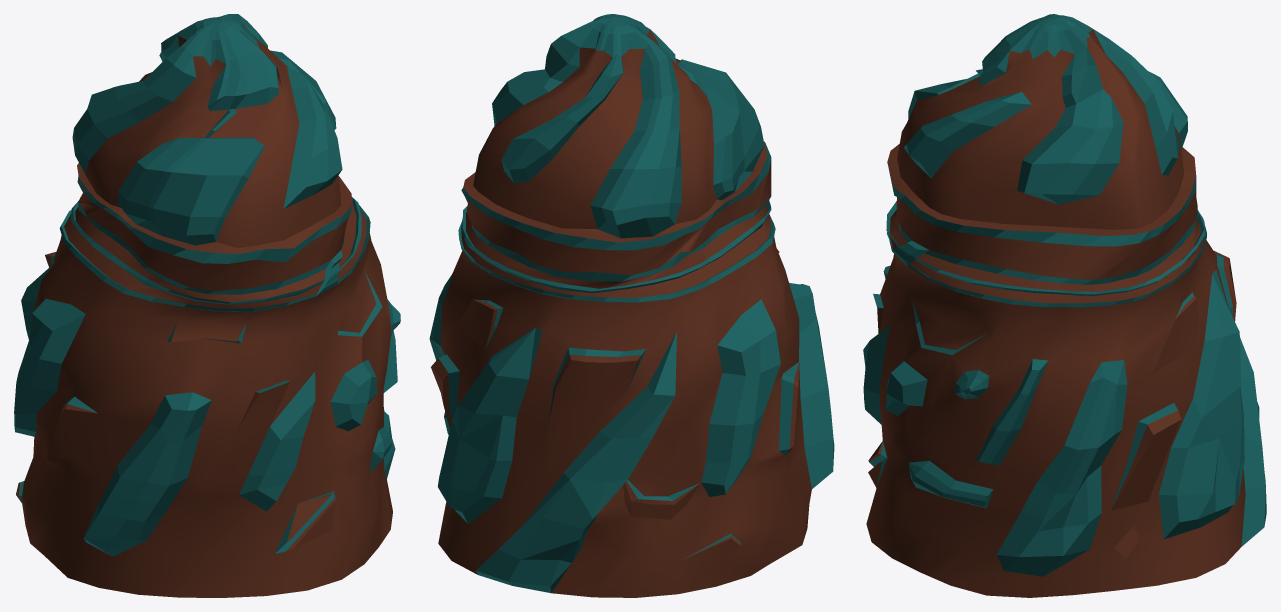
The model's file is Mount_4_Cup.fbx.
3 renders of one model, left to right at view 1: azimuth 30°, elevation 25°; view 2: azimuth 150°, elevation 25°; view 3: azimuth 270°, elevation 25°, orthographic.
Parts seen in each view (by area): view 1: Rock_4_Cup; view 2: Rock_4_Cup; view 3: Rock_4_Cup.
Boxes of the visible parts, x1,y1,x2,y2 form: Rock_4_Cup: [14, 14, 400, 597]; Rock_4_Cup: [429, 14, 834, 597]; Rock_4_Cup: [863, 14, 1266, 597].
Size of the model in its own units: 1880 by 2632 by 1897.
